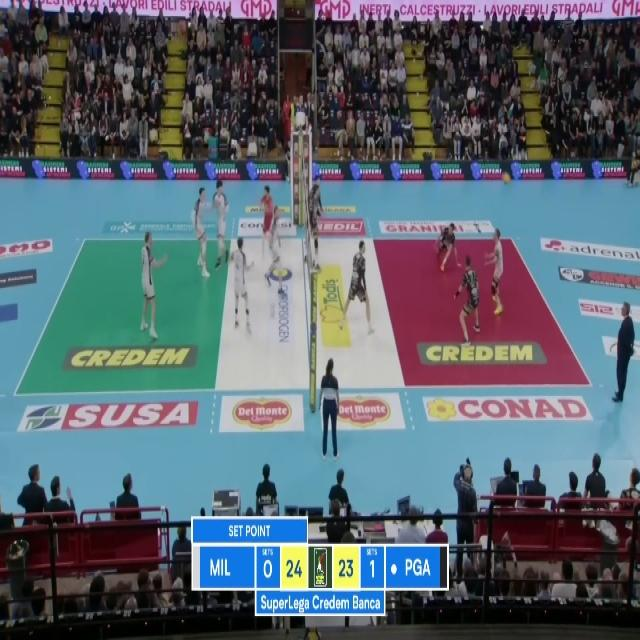volleyball court: (12, 234, 592, 400)
